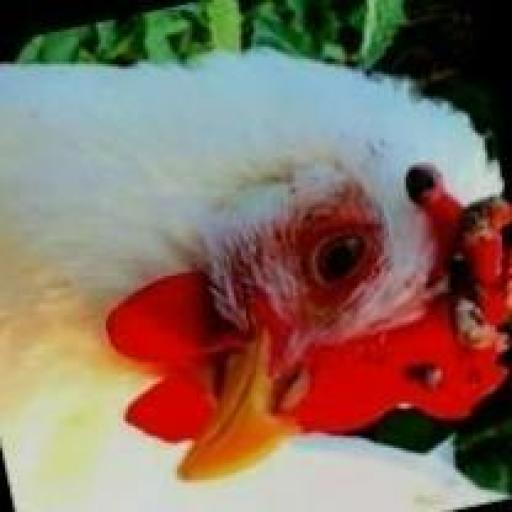disease: (413, 154, 512, 350), (399, 337, 459, 394)
